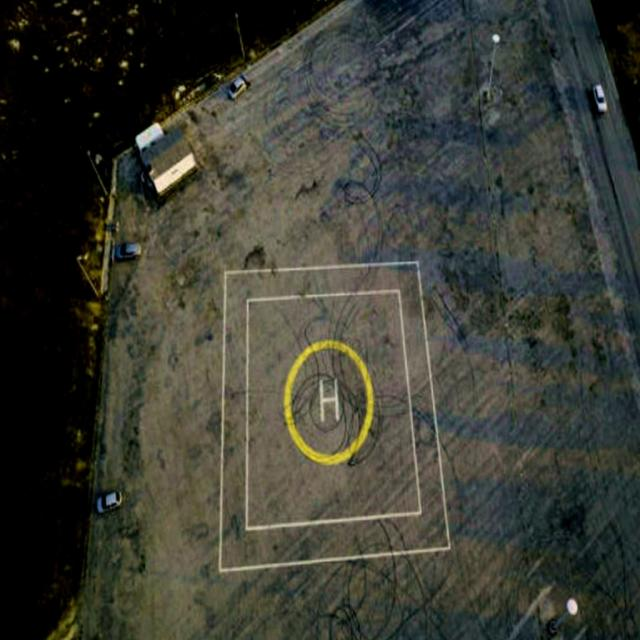helipad: (279, 334, 377, 469)
